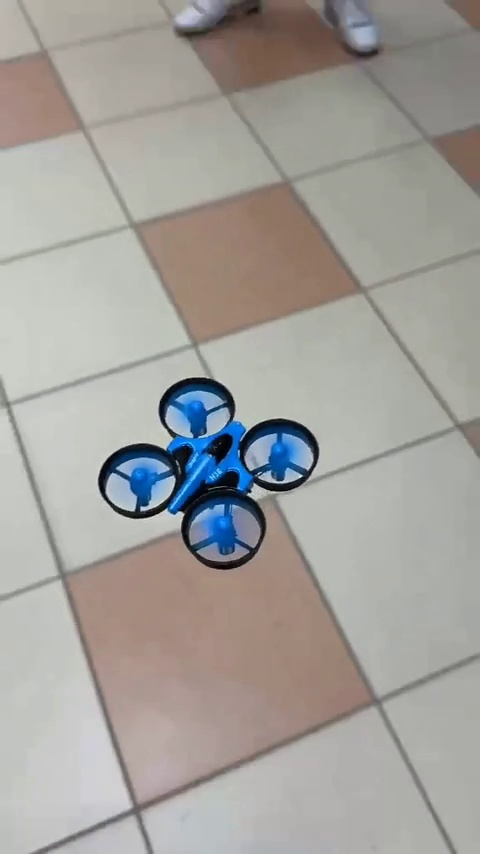drone: (90, 382, 319, 566)
